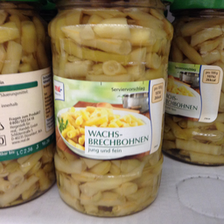beans: (49, 1, 167, 216), (169, 2, 224, 172), (1, 1, 46, 208)
